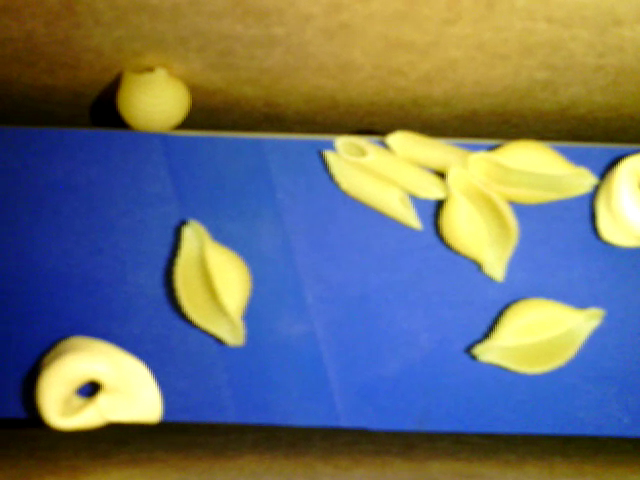penne: (322, 148, 424, 231), (334, 133, 447, 200), (384, 129, 471, 172)
shell: (472, 294, 606, 374), (171, 219, 252, 348), (438, 166, 516, 282), (467, 139, 601, 203), (116, 66, 191, 134)
tortellini: (36, 336, 163, 432), (594, 153, 639, 248)
